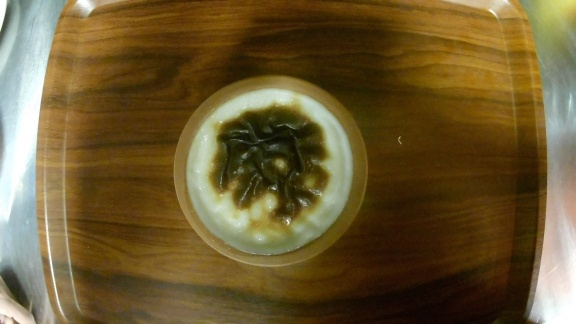sutlac: (176, 75, 368, 267)
